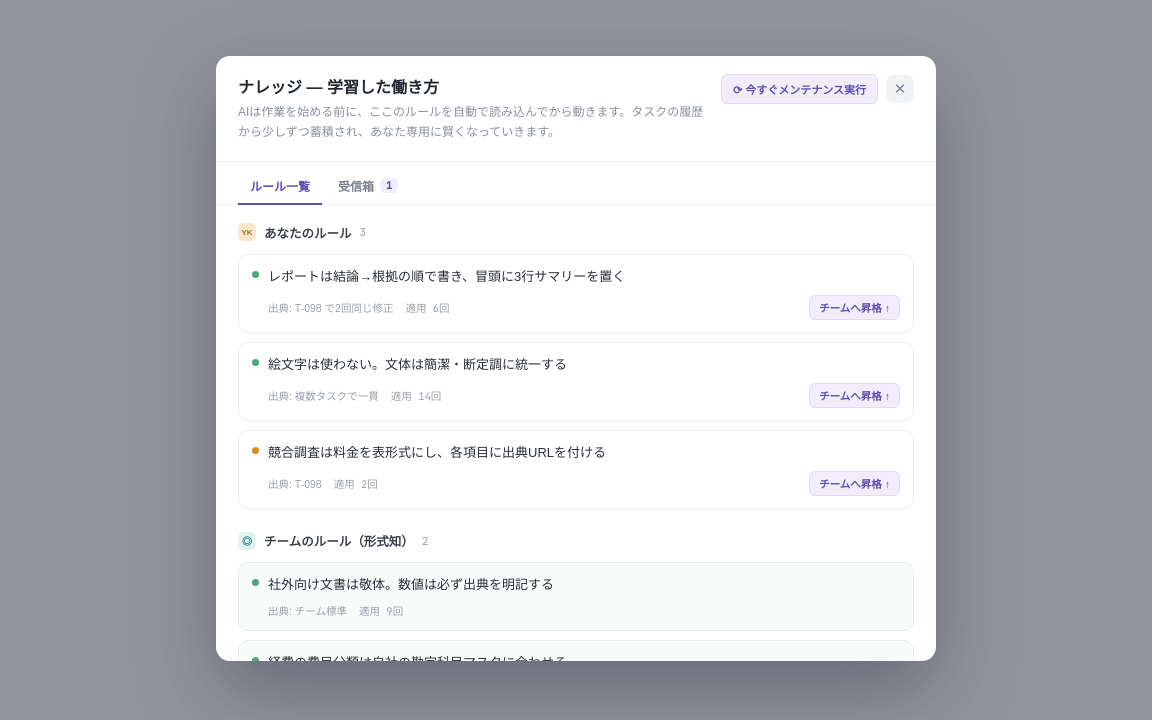
Test: KnowledgeOverlay: 受信箱タブ（#26） › 受信箱タブへ切り替えると提案カード（kindバッジ・対比表示・note）が出る
What coordinates should you click on to do the following:
click the tab "受信箱 1"
I would click on:
 (368, 187)
Its box is [326,170,410,205].
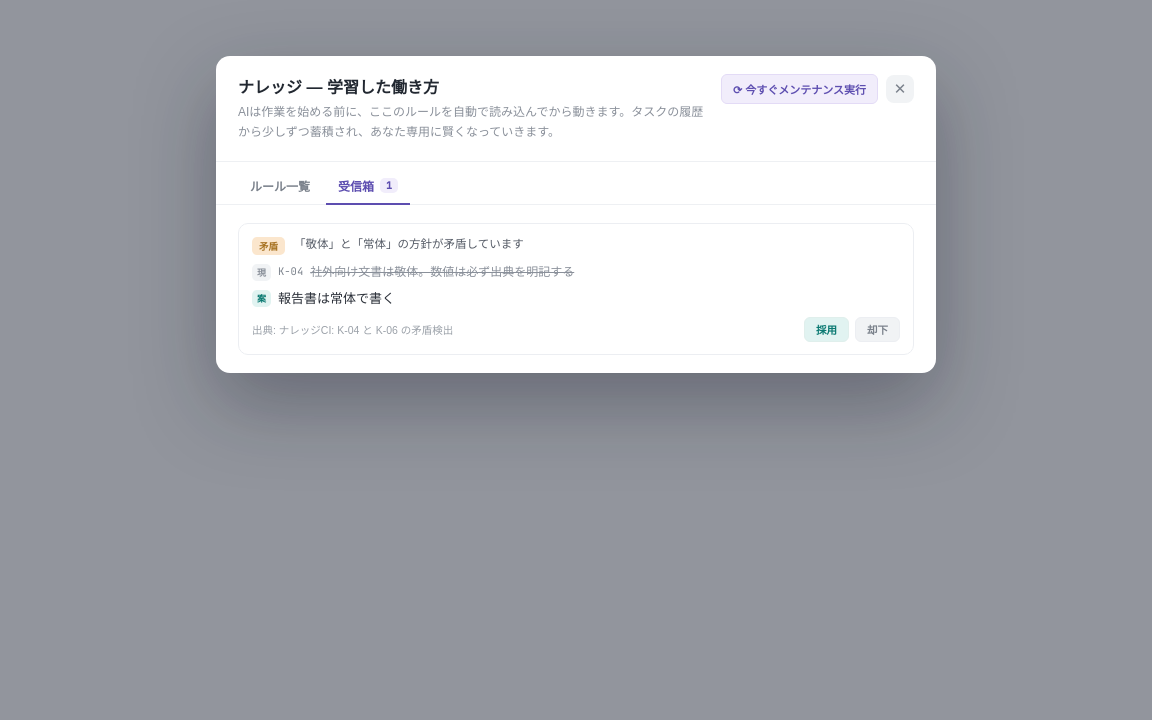
Expected: the text with class "knowledge__kind--conflict" reads "矛盾", [259,241,278,252]
Expected: the text "「敬体」と「常体」の方針が矛盾しています" is shown, [294,238,524,250]
Expected: the text "報告書は常体で書く" is shown, [278,291,395,306]
